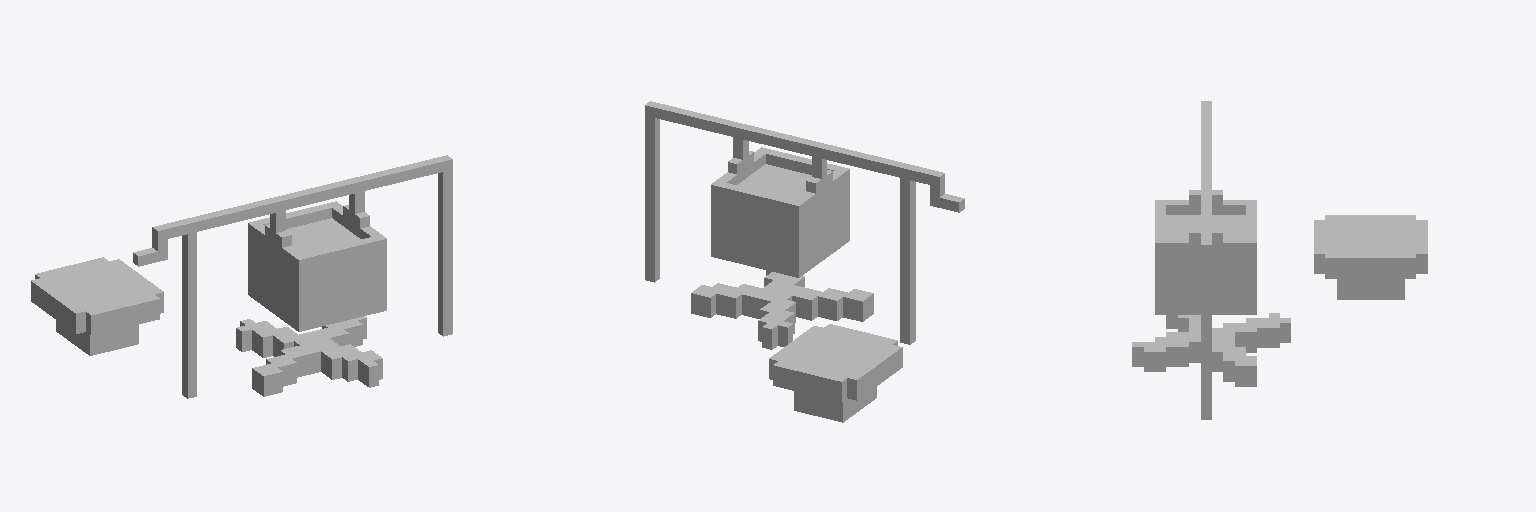
File: Discanco.obj
3 views of the same model, side by side, from view 1: azimuth 30°, elevation 25°; view 2: azimuth 150°, elevation 25°; view 3: azimuth 270°, elevation 25° (orthographic).
Visible parts, largest first — view 1: object 1; view 2: object 1; view 3: object 1.
Part boxes in pixels (left/top/right/bottom): object 1: left=31, top=155, right=452, bottom=398; object 1: left=645, top=101, right=964, bottom=422; object 1: left=1132, top=101, right=1427, bottom=419.
Bounding box in the file's own units: 3.2 × 1.7 × 2.6.